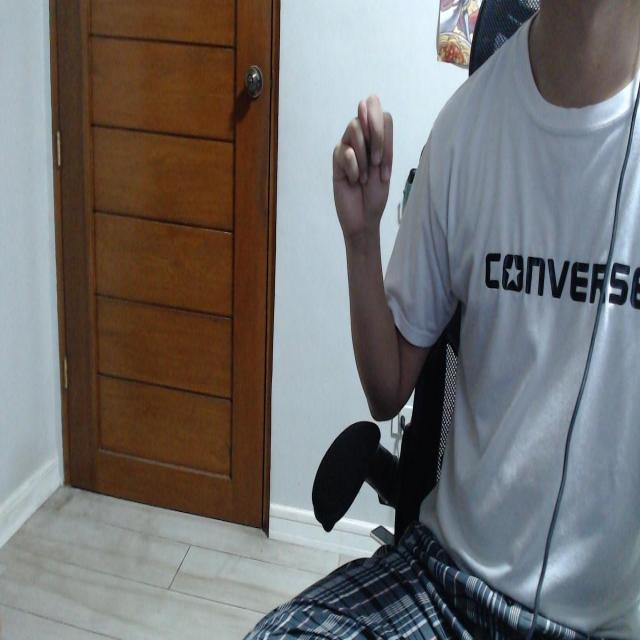N: (332, 94, 393, 224)
